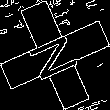N_NE: (24, 26, 86, 84)
